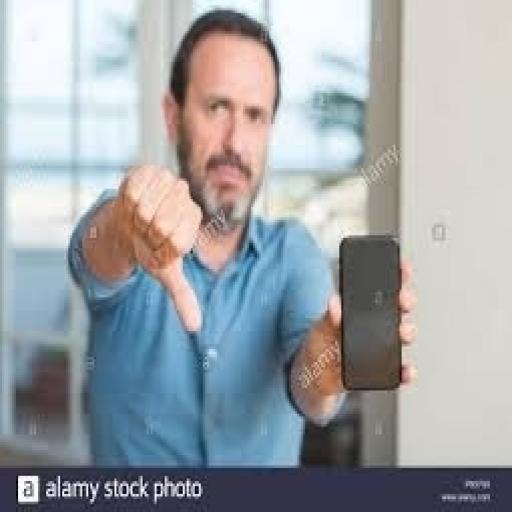texting: (62, 5, 418, 466)
